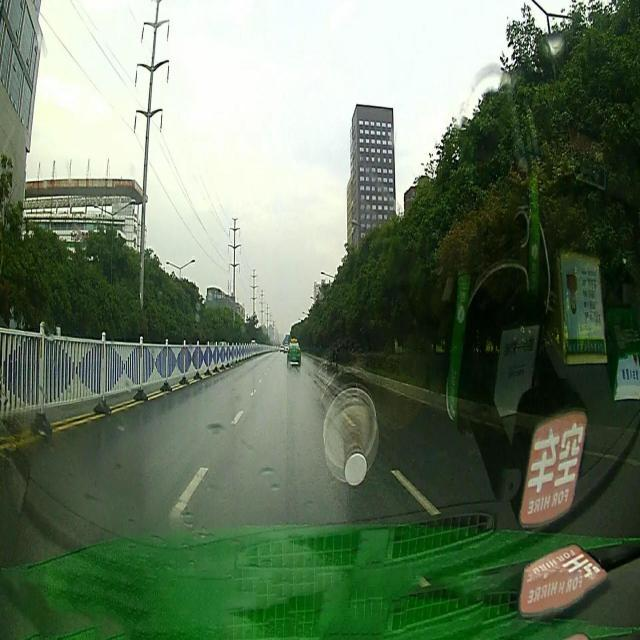car: (287, 338, 301, 368)
